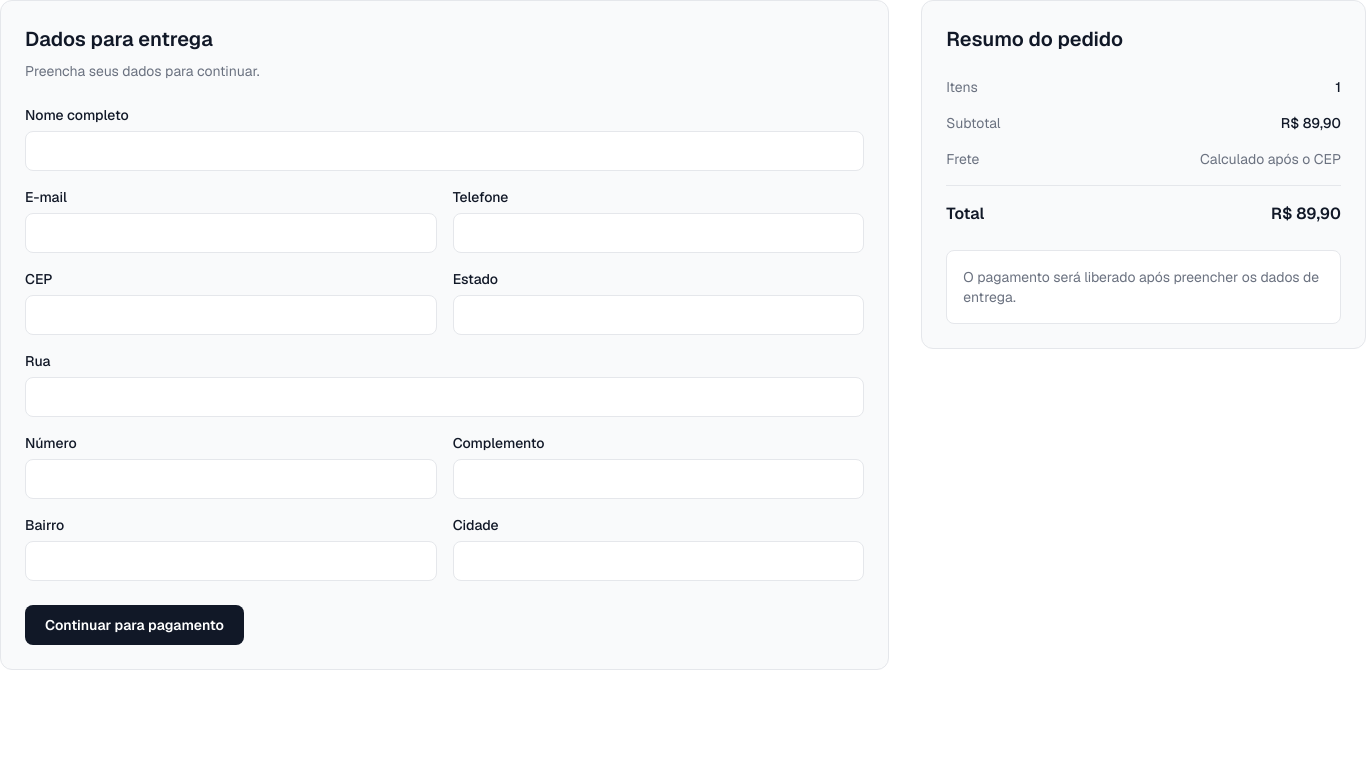
Test: CheckoutContent › deve avançar para pagamento
This screenshot has width=1366, height=768.
Type "Guilherme Nobre" into the field labelled "Nome completo".
click(445, 151); type("Guilherme Nobre")  # box [25,131,864,171]
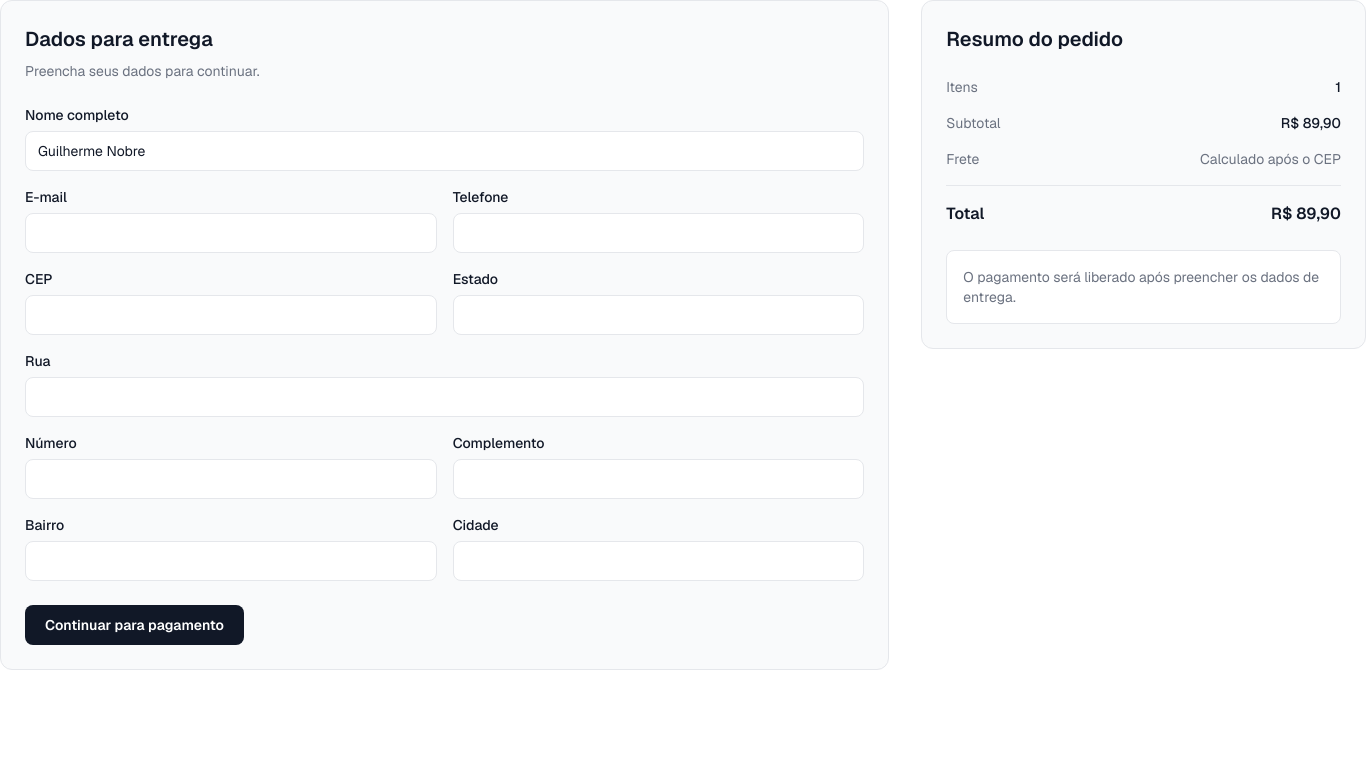
Type "guilherme@example.com" into the field labelled "E-mail".
click(231, 233); type("guilherme@example.com")  # box [25,213,437,253]
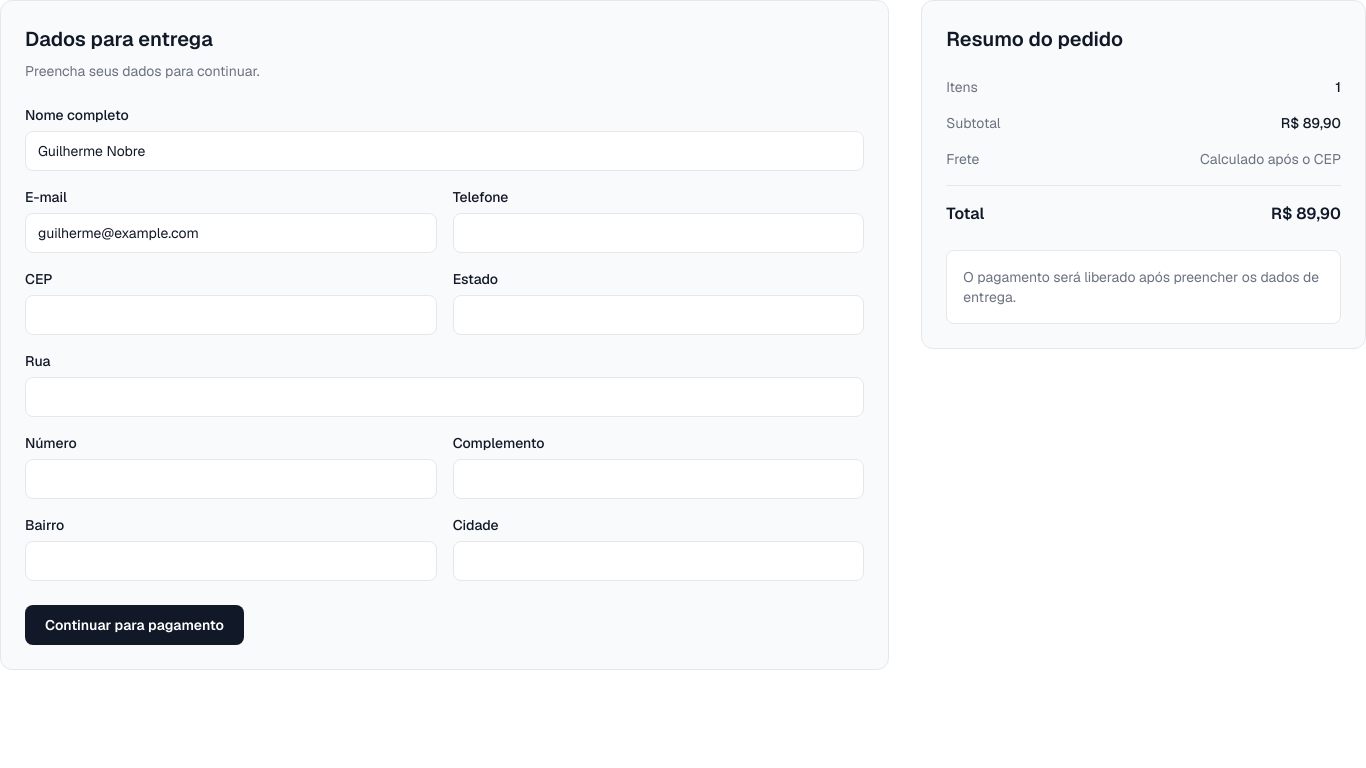
Type "16999998888" into the field labelled "Telefone".
click(659, 233); type("16999998888")  # box [453,213,864,253]
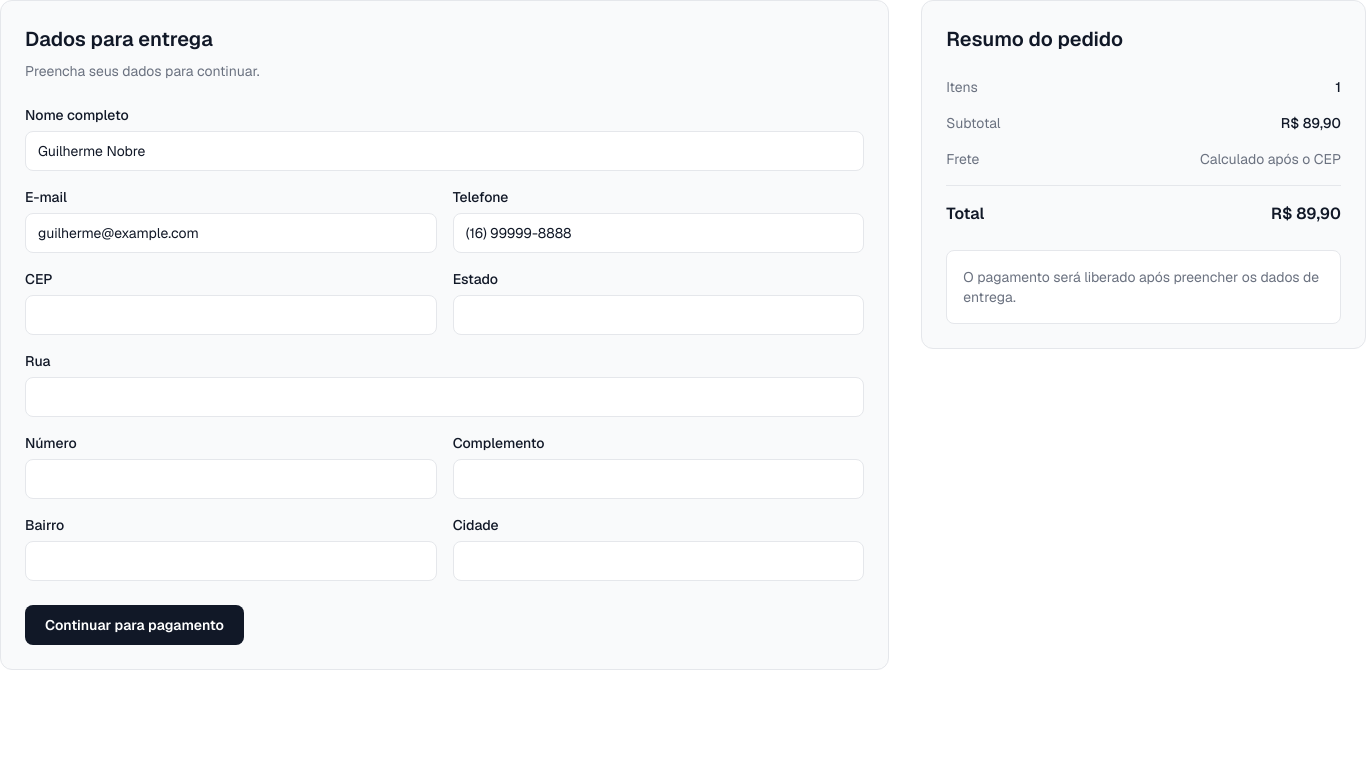
Type "14010120" into the field labelled "CEP".
click(231, 315); type("14010120")  # box [25,295,437,335]
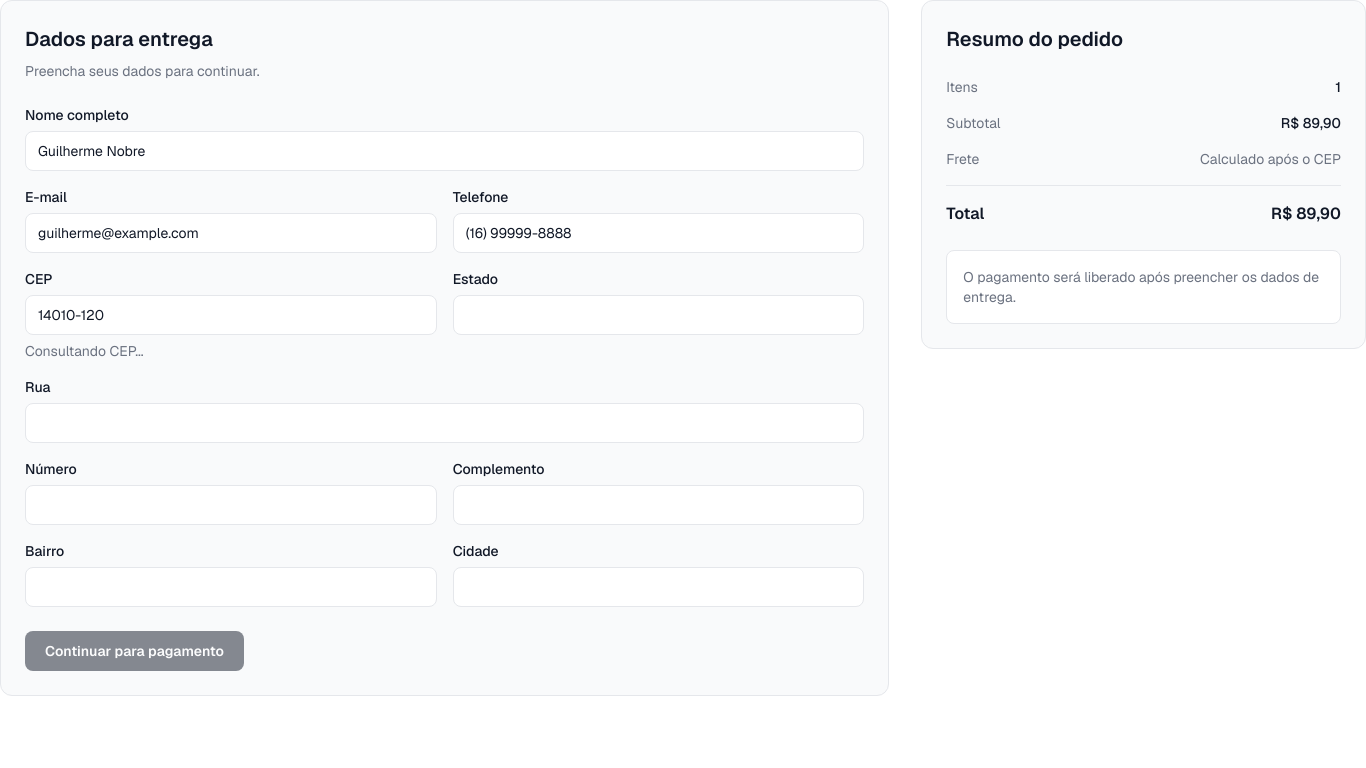
Type "123" into the field labelled "Número".
click(231, 505); type("123")  # box [25,485,437,525]
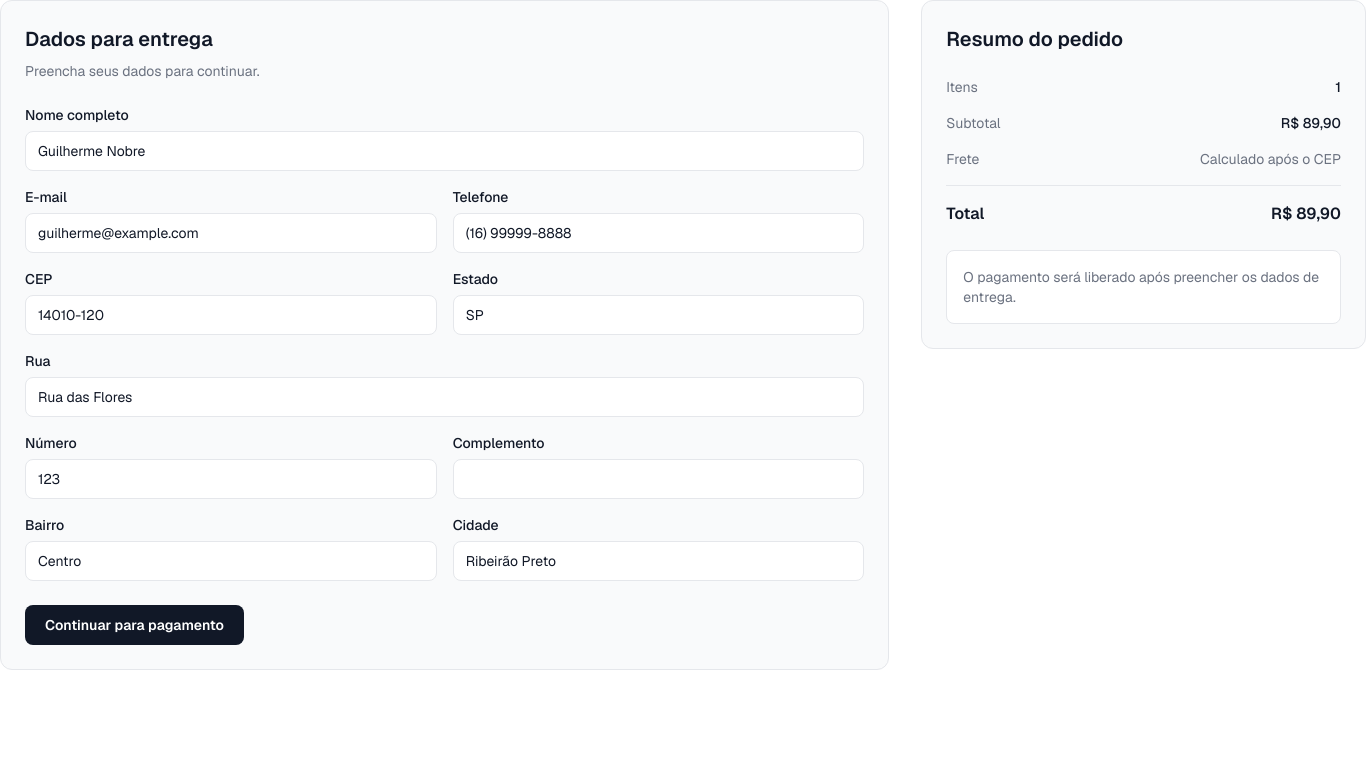
Submit the form named "Continuar para pagamento", box [0,0,889,670]
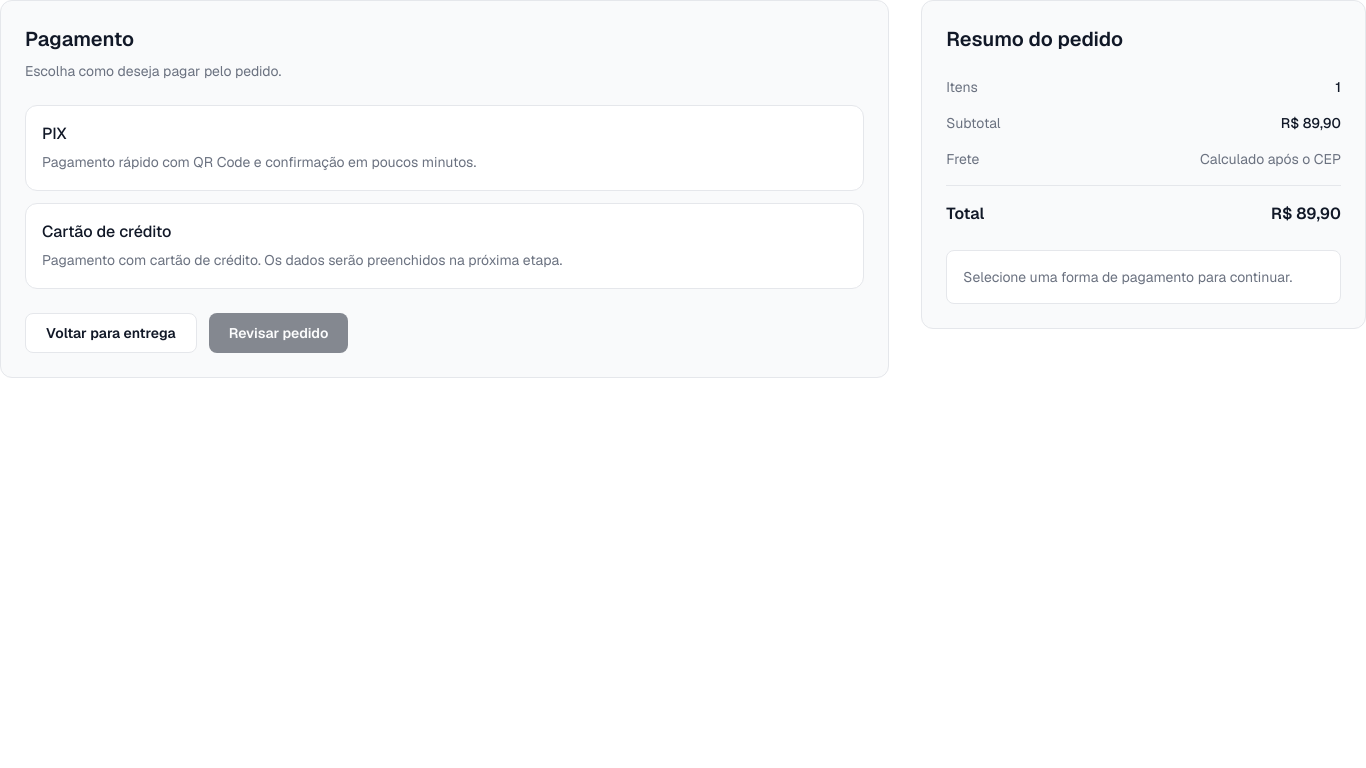
Expected: the heading "Pagamento" is shown, [25,26,134,52]
